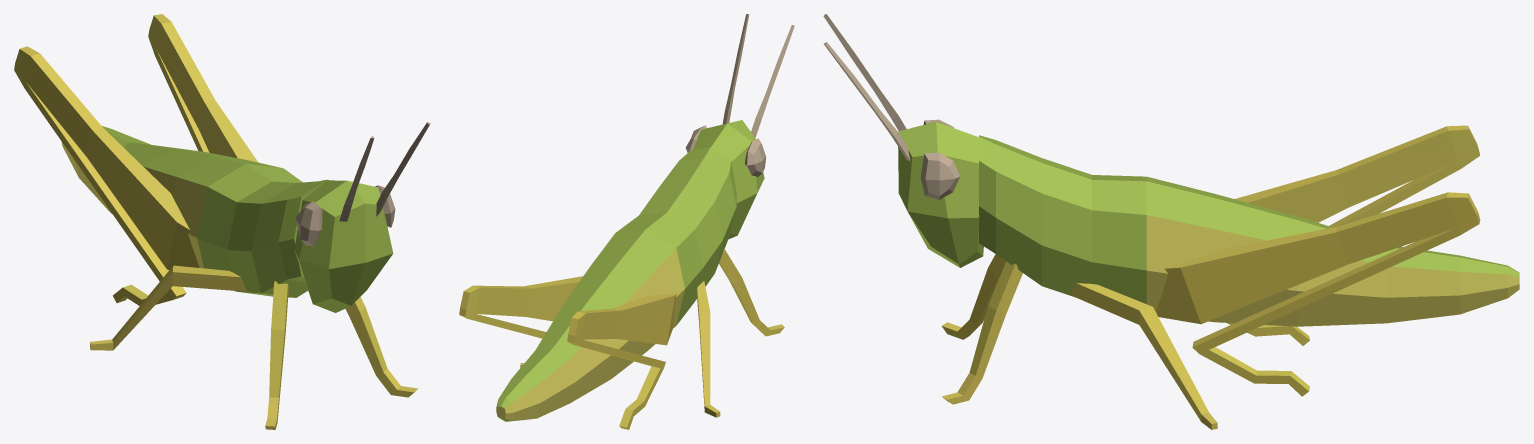
The model's file is grasshopper.glb.
3 renders of one model, left to right at view 1: azimuth 30°, elevation 25°; view 2: azimuth 150°, elevation 25°; view 3: azimuth 270°, elevation 25°, orthographic. The views are drawn at different scales.
Visible parts, largest first — view 1: Geo_Grasshopper; view 2: Geo_Grasshopper; view 3: Geo_Grasshopper.
Boxes of the visible parts, x1,y1,x2,y2 form: Geo_Grasshopper: (14,14,430,429); Geo_Grasshopper: (459,14,794,429); Geo_Grasshopper: (823,14,1519,429).
Bounding box in the file's own units: 0.0426 × 0.0541 × 0.1.
Materials: 1 (1 with a texture image).
